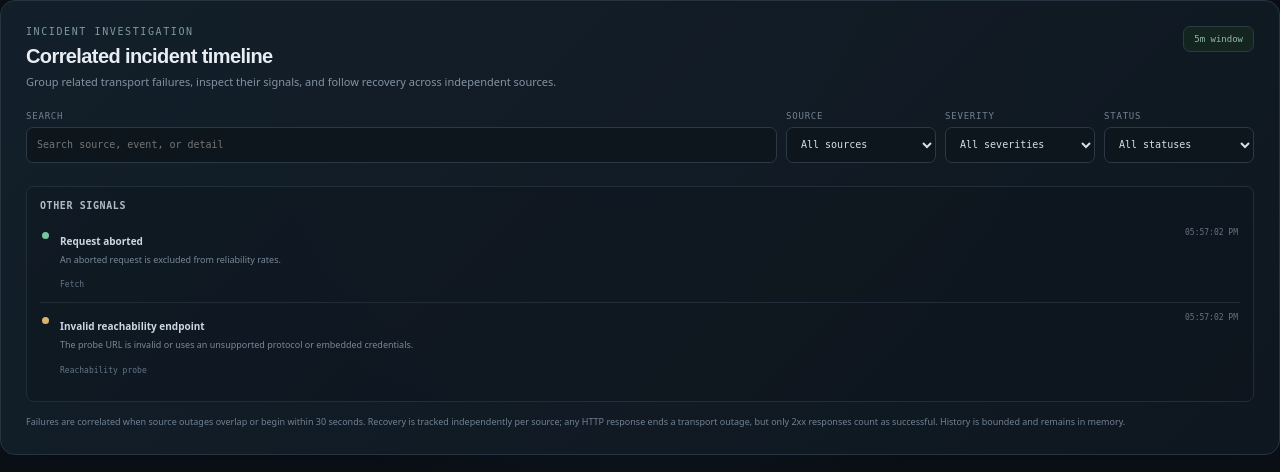
Test case: IncidentTimeline › searches signal details and shows standalone configuration signals
expect the heading "Other signals" is shown: met, box x1=40 y1=200 x2=126 y2=211
Type "credentials" into the field named "Search incidents and signals" at (402, 145), box x1=26 y1=127 x2=777 y2=163
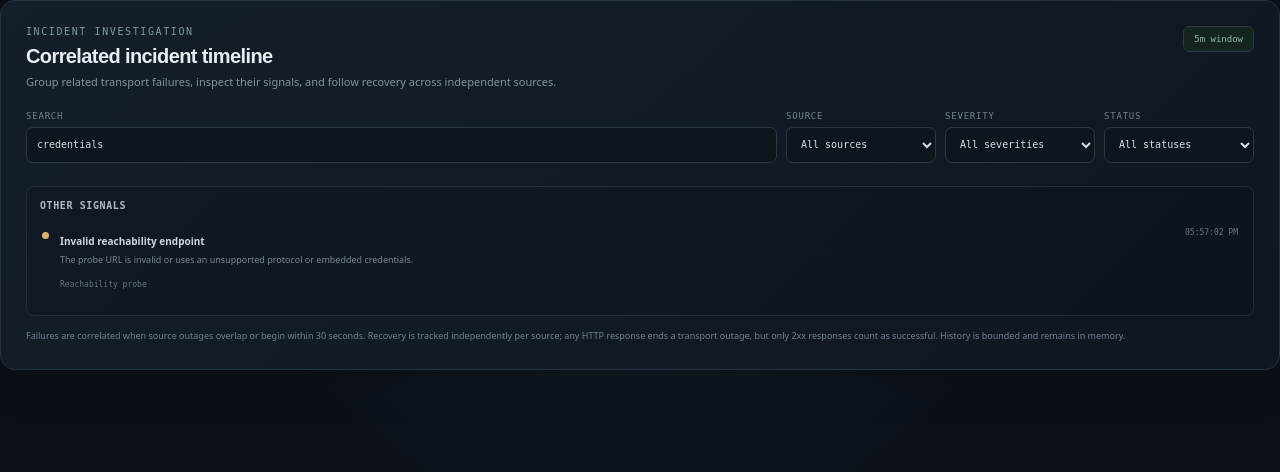
expect the text "Invalid reachability endpoint" is shown: met, box x1=60 y1=234 x2=205 y2=248
expect the text "Request aborted" is gone: met
